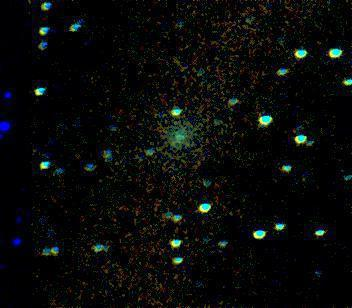star: (156, 135, 186, 165)
